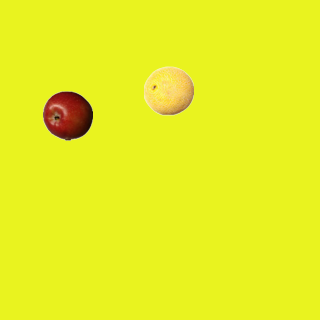Apple Braeburn: (42, 90, 92, 140)
Cantaloupe 1: (143, 65, 193, 115)
